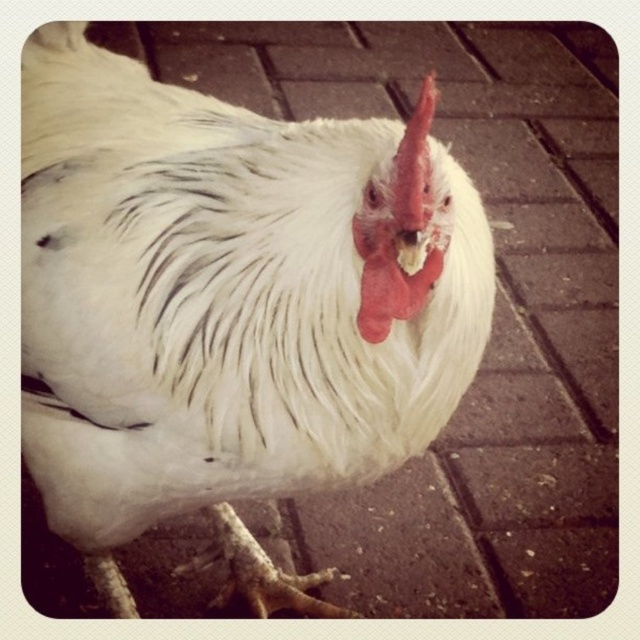Chicken: (0, 13, 496, 630)
